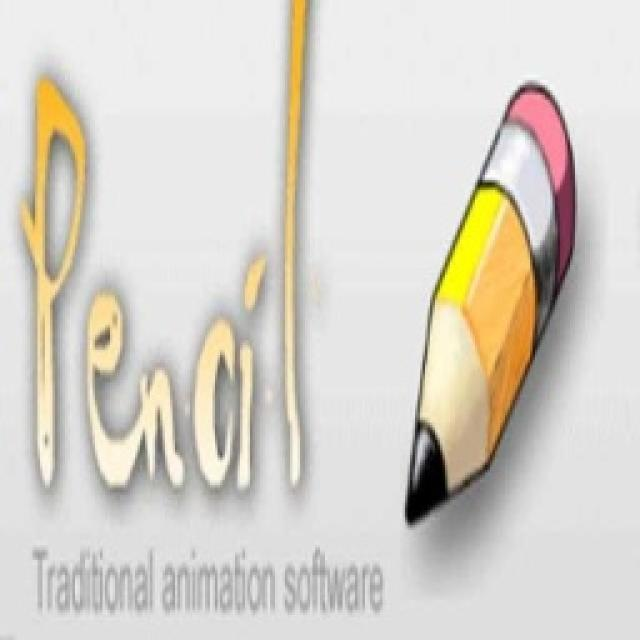pencil: (400, 78, 580, 528)
